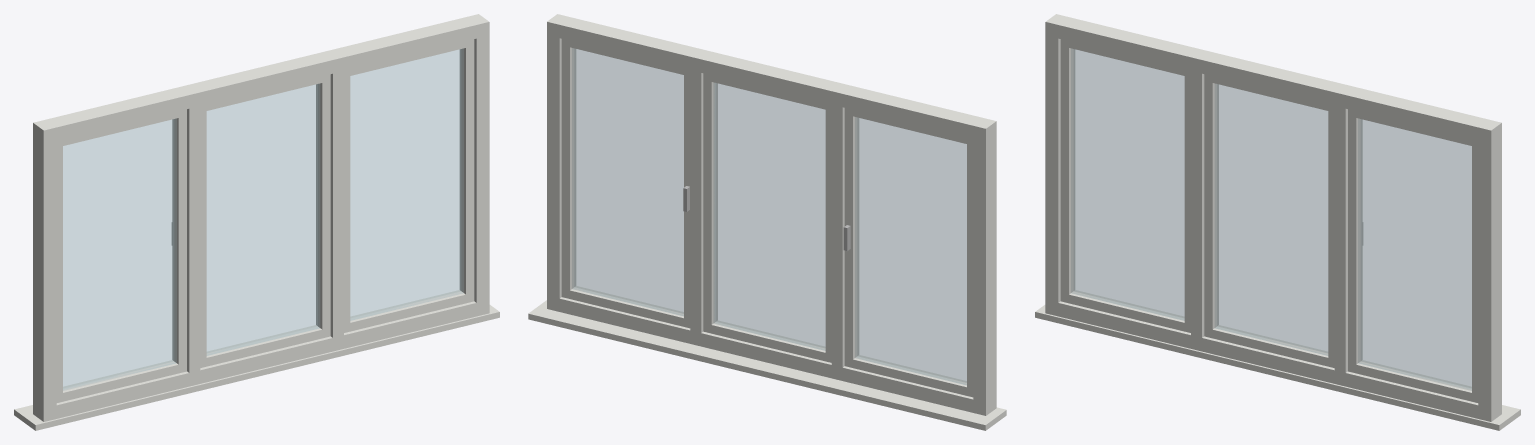
File: opening.window.casement_2400x1500.glb
The picture shows the model from 3 angles, left to right: view 1: azimuth 30°, elevation 25°; view 2: azimuth 150°, elevation 25°; view 3: azimuth 330°, elevation 25°; orthographic projection.
Parts seen in each view (by area): view 1: glazing__glass, frame__paint_white; view 2: glazing__glass, frame__paint_white; view 3: glazing__glass, frame__paint_white.
Part boxes in pixels (x1,y1,x2,y2): glazing__glass: (63,49,463,390); frame__paint_white: (14,14,499,430); glazing__glass: (572,48,966,384); frame__paint_white: (528,14,1006,430); glazing__glass: (1071,49,1471,390); frame__paint_white: (1035,14,1520,430).
Size of the model in its own units: 2.5 by 1.53 by 0.2.
